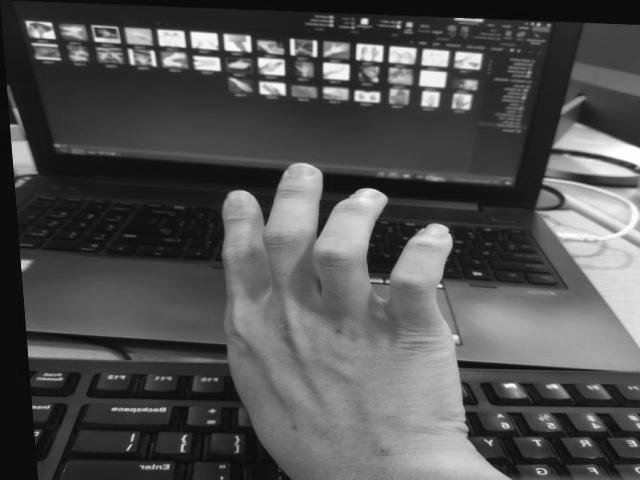not-gloved: (220, 158, 473, 480)
